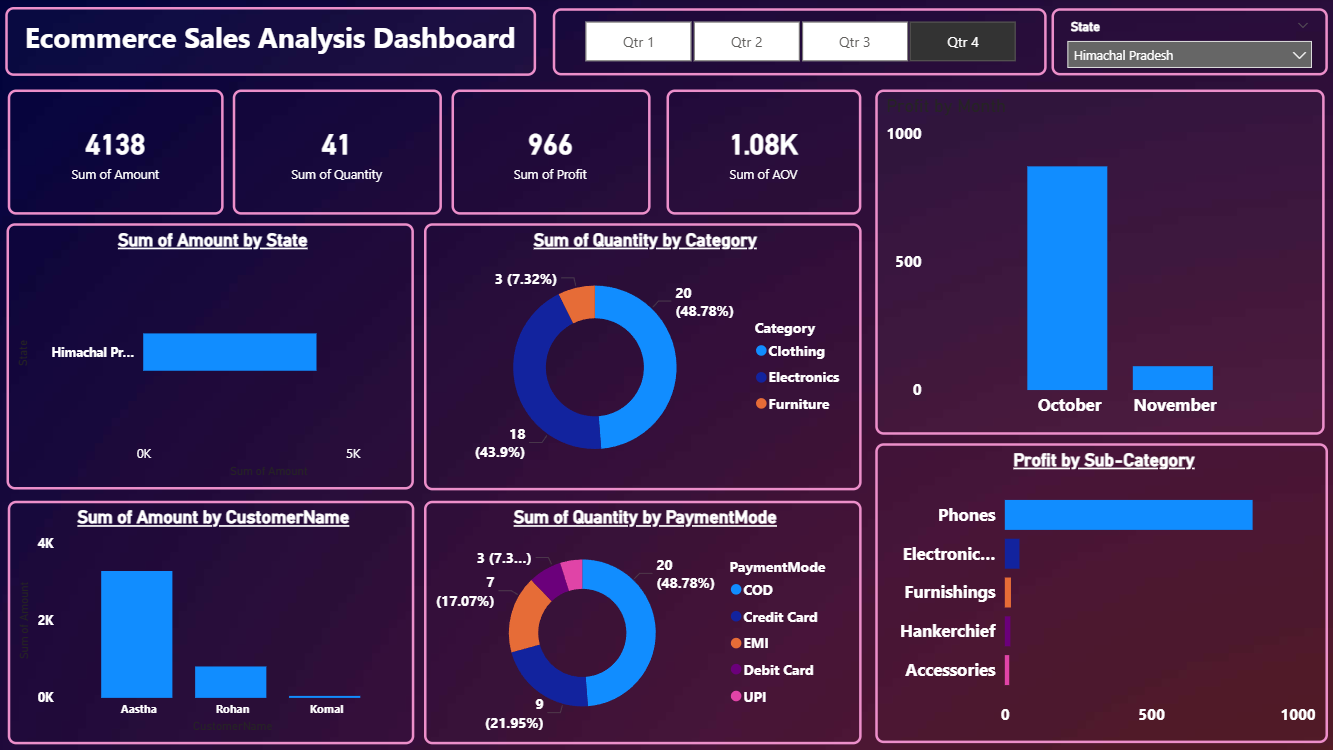

What the dashboard file says about the page in this screenshot:
{"tool":"powerbi","page":{"name":"Projact ","canvas":[1280,720],"ordinal":0},"visuals":[{"type":"textbox","box":[10.7,9.5,506,65.5],"z":0},{"type":"columnChart","title":"Profit by Month","fields":{"Category":["Orders.Order Date.Variation.Date Hierarchy.Month"],"Y":["Details.Profit"]},"box":[839.4,88.2,427.7,328.8],"z":1000},{"type":"barChart","title":"Profit by Sub-Category","fields":{"Category":["Details.Sub-Category"],"Y":["Details.Profit"],"Series":["Details.Sub-Category"]},"box":[839.3,425,431,285.7],"z":2000},{"type":"donutChart","fields":{"Category":["Details.Category"],"Y":["Details.Quantity"]},"box":[409.5,215.5,416.7,254.8],"z":3000},{"type":"donutChart","fields":{"Y":["Details.Quantity"],"Category":["Details.PaymentMode"]},"box":[409.5,479.8,416.7,232.1],"z":4000},{"type":"barChart","fields":{"Category":["Orders.State"],"Y":["Details.Amount"]},"box":[11.9,215.5,388.1,253.6],"z":5000},{"type":"columnChart","fields":{"Category":["Orders.CustomerName"],"Y":["Details.Amount"]},"box":[13.1,479.8,386.9,232.1],"z":6000},{"type":"card","fields":{"Values":["Details.Amount"]},"box":[13.1,88.1,206,119],"z":7000},{"type":"card","fields":{"Values":["Details.Quantity"]},"box":[227.4,88.1,198.8,119],"z":8000},{"type":"card","fields":{"Values":["Details.Profit"]},"box":[435.7,88.1,189.3,119],"z":9000},{"type":"card","fields":{"Values":["Details.AOV"]},"box":[640.5,88.1,185.7,119],"z":10000},{"type":"slicer","fields":{"Values":["Orders.Order Date.Variation.Date Hierarchy.Quarter"]},"box":[532,10.7,470.5,64.2],"z":11000},{"type":"slicer","fields":{"Values":["Orders.State"]},"box":[1007.1,10.7,263.1,64.3],"z":12000}]}

Visuals, with their boxes in screenshot pixels (x1, y1, x2, y2), scaled from the page's 1280x720 canvas onto the 1333x750 screenshot:
textbox: bbox(11, 10, 538, 78)
"Profit by Month" columnChart: bbox(874, 92, 1320, 434)
"Profit by Sub-Category" barChart: bbox(874, 443, 1323, 740)
donutChart - Details.Category x Details.Quantity: bbox(426, 224, 860, 490)
donutChart - Details.Quantity x Details.PaymentMode: bbox(426, 500, 860, 742)
barChart - Orders.State x Details.Amount: bbox(12, 224, 417, 489)
columnChart - Orders.CustomerName x Details.Amount: bbox(14, 500, 417, 742)
card - Details.Amount: bbox(14, 92, 228, 216)
card - Details.Quantity: bbox(237, 92, 444, 216)
card - Details.Profit: bbox(454, 92, 651, 216)
card - Details.AOV: bbox(667, 92, 860, 216)
slicer - Orders.Order Date.Variation.Date Hierarchy.Quarter: bbox(554, 11, 1044, 78)
slicer - Orders.State: bbox(1049, 11, 1323, 78)
